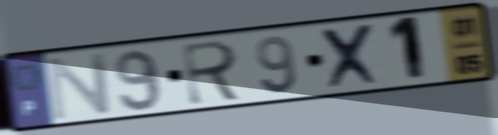1: (386, 14, 429, 85)
9: (112, 47, 164, 113), (254, 34, 298, 96)
N: (44, 49, 116, 123)
R: (180, 37, 245, 108)
X: (318, 21, 386, 93)
